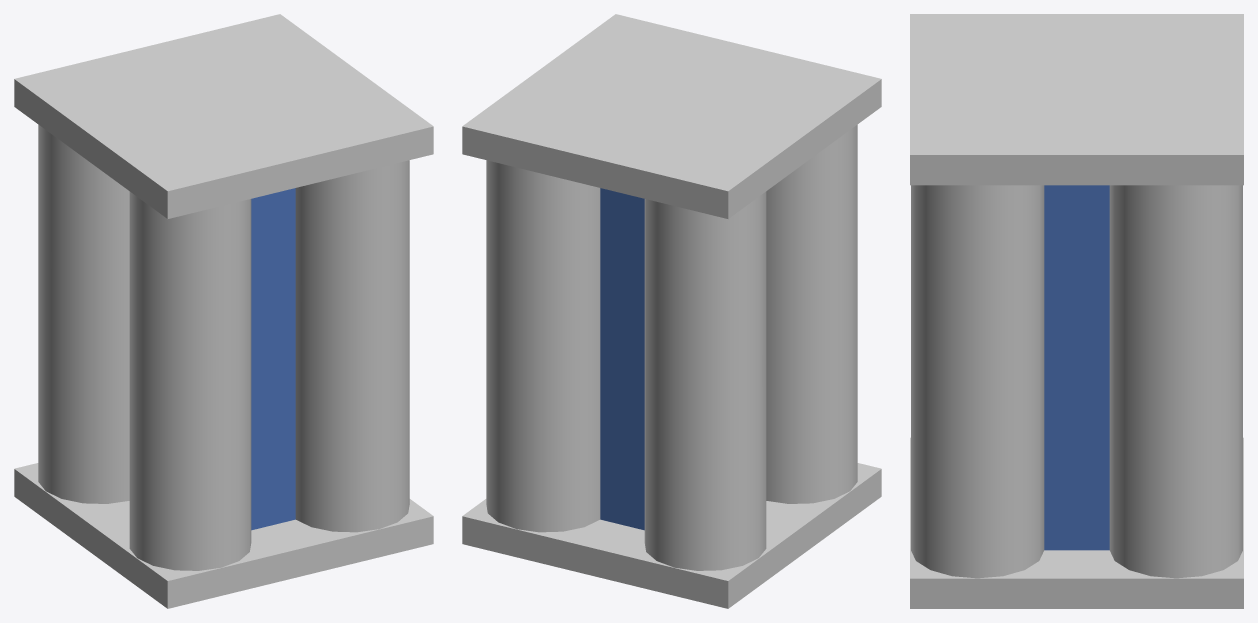
Rendered from Battery1.fbx.
3 views of the same model, side by side, from view 1: azimuth 30°, elevation 25°; view 2: azimuth 150°, elevation 25°; view 3: azimuth 270°, elevation 25° (orthographic). The views are drawn at different scales.
Parts seen in each view (by area): view 1: Cube.003; view 2: Cube.003; view 3: Cube.003.
Boxes of the visible parts, <box> form: Cube.003: <box>14,14,433,608</box>; Cube.003: <box>462,14,881,608</box>; Cube.003: <box>910,14,1243,608</box>.
Size of the model in its own units: 100 by 100 by 150.
